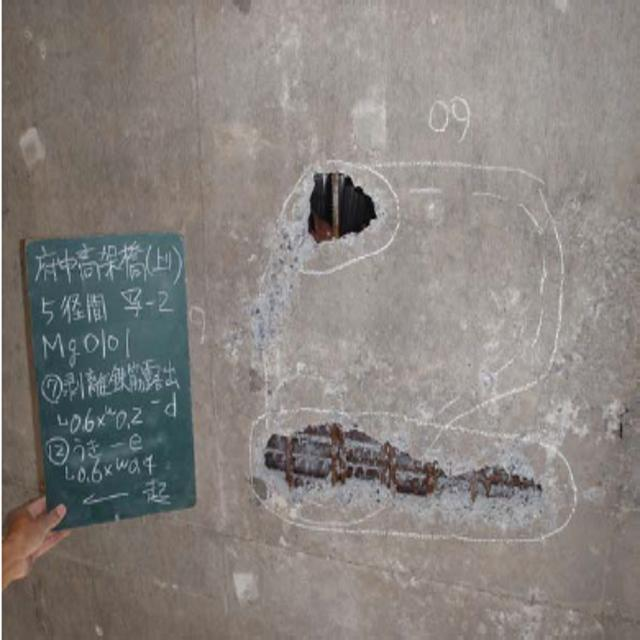spalling: (253, 387, 571, 544), (277, 148, 406, 296)
